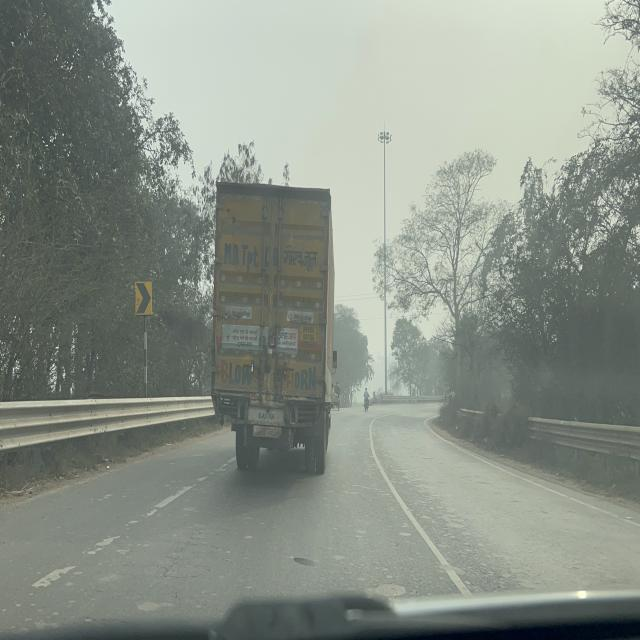TURN_RIGHT: (134, 281, 153, 315)
